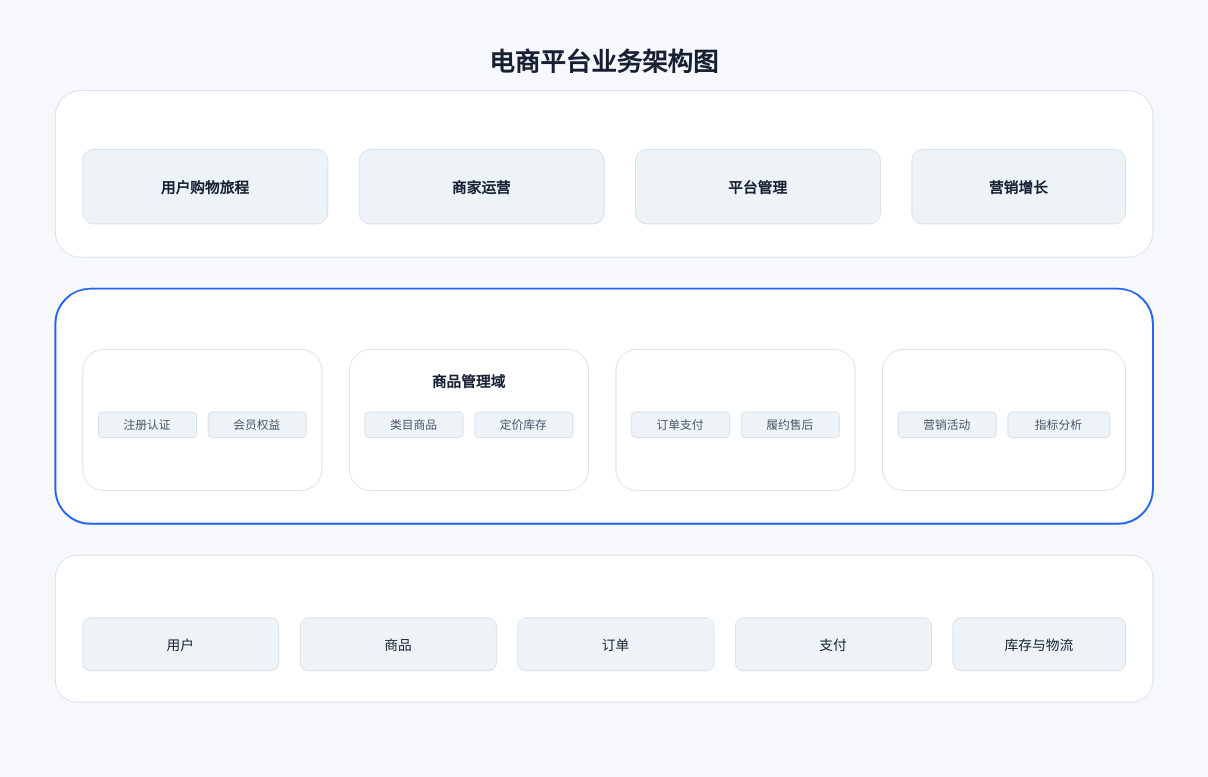
Some shapes in this 1208 by 777 pixel diagram are drawn without their labels. The shapes that lost their labels are listed below. From the top down, each one's box as (x1, y1, x2, y2) in pixels, then its label:
(54, 90, 1153, 257): 业务场景层
(82, 348, 322, 490): 用户管理域
(54, 287, 1153, 524): 业务能力层
(615, 348, 855, 490): 交易履约域
(882, 348, 1126, 490): 营销分析域
(54, 554, 1153, 702): 业务对象与资源层
